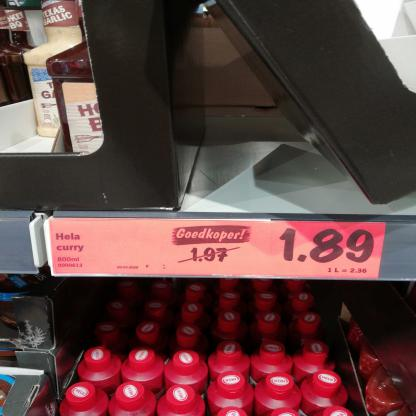prtg: (50, 219, 387, 280)
